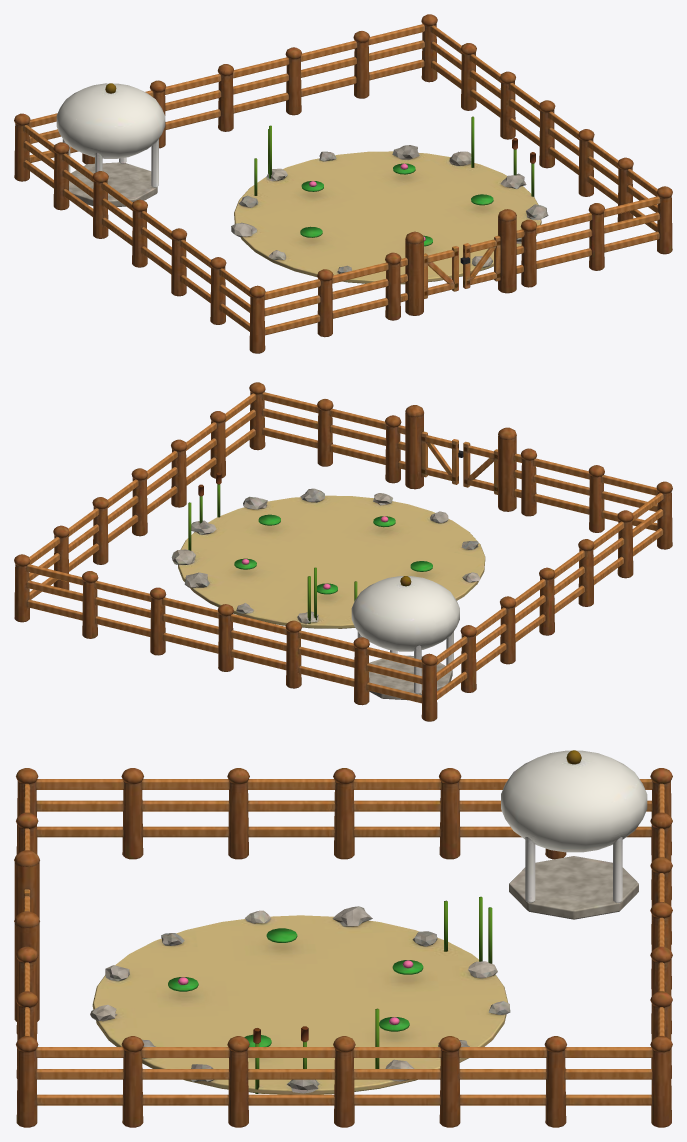
Rendered from black_swan_lake.glb.
3 views of the same model, one above another, from view 1: azimuth 30°, elevation 25°; view 2: azimuth 150°, elevation 25°; view 3: azimuth 270°, elevation 25° (orthographic). The views are drawn at different scales.
Visible parts, largest first — view 1: black_swan_lake, gate1, gate0; view 2: black_swan_lake, gate1, gate0; view 3: black_swan_lake.
Part boxes in pixels (x1,y1,x2,y2): black_swan_lake: (14,14,672,353); gate1: (460,235,500,288); gate0: (424,246,458,298); black_swan_lake: (14,382,672,721); gate1: (421,431,463,484); gate0: (463,441,497,494); black_swan_lake: (14,750,672,1127).
Bounding box in the file's own units: 3 × 0.715 × 3.01.
1 material, 1 textured.
